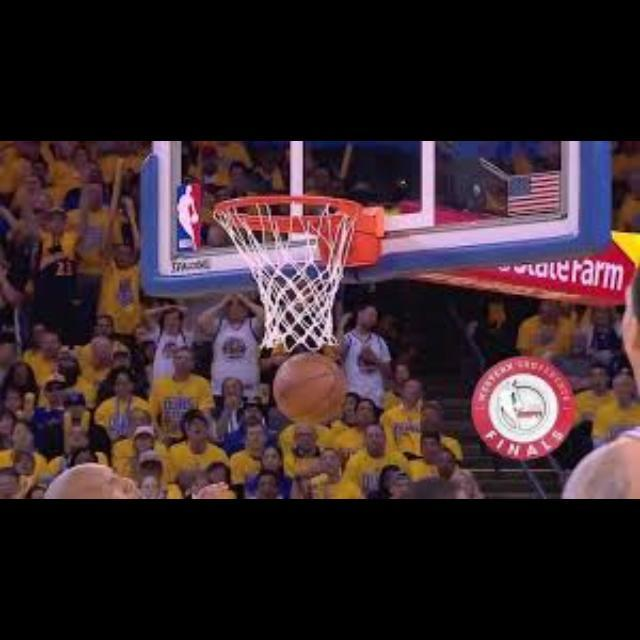basketball: (273, 352, 349, 424)
rim: (214, 196, 356, 352)
